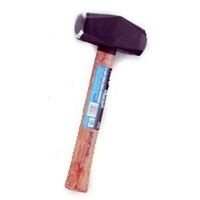hammer: (65, 11, 147, 195)
